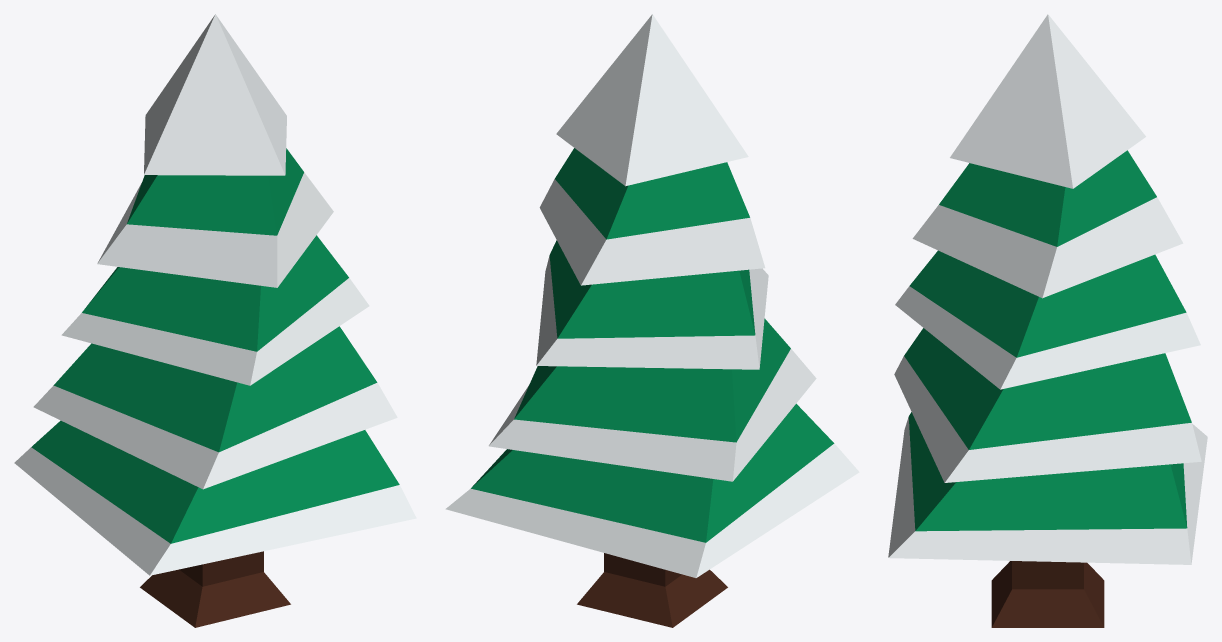
Rendered from tree5.fbx.
3 views of the same model, side by side, from view 1: azimuth 30°, elevation 25°; view 2: azimuth 150°, elevation 25°; view 3: azimuth 270°, elevation 25° (orthographic).
Visible parts, largest first — view 1: Pyramid, Cube; view 2: Pyramid, Cube; view 3: Pyramid, Cube.
Part boxes in pixels (<box>): Pyramid: <box>14,14,416,575</box>; Cube: <box>140,551,290,627</box>; Pyramid: <box>445,14,859,577</box>; Cube: <box>577,553,727,627</box>; Pyramid: <box>888,14,1207,564</box>; Cube: <box>991,561,1104,627</box>.
Bounding box in the file's own units: 445 × 907 × 445.
